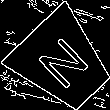N_SE: (31, 31, 95, 94)
